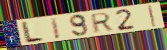2: (114, 8, 138, 33)
9: (68, 13, 91, 38)
I: (49, 16, 63, 40), (147, 5, 157, 28)
L: (21, 20, 45, 45)
R: (90, 11, 114, 35)
